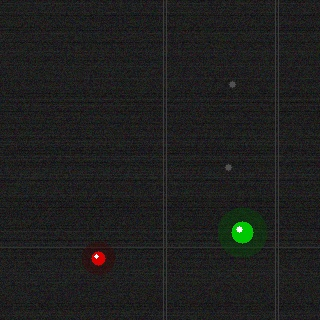green_normal: (229, 219, 255, 245)
red_fault: (89, 249, 107, 267)
